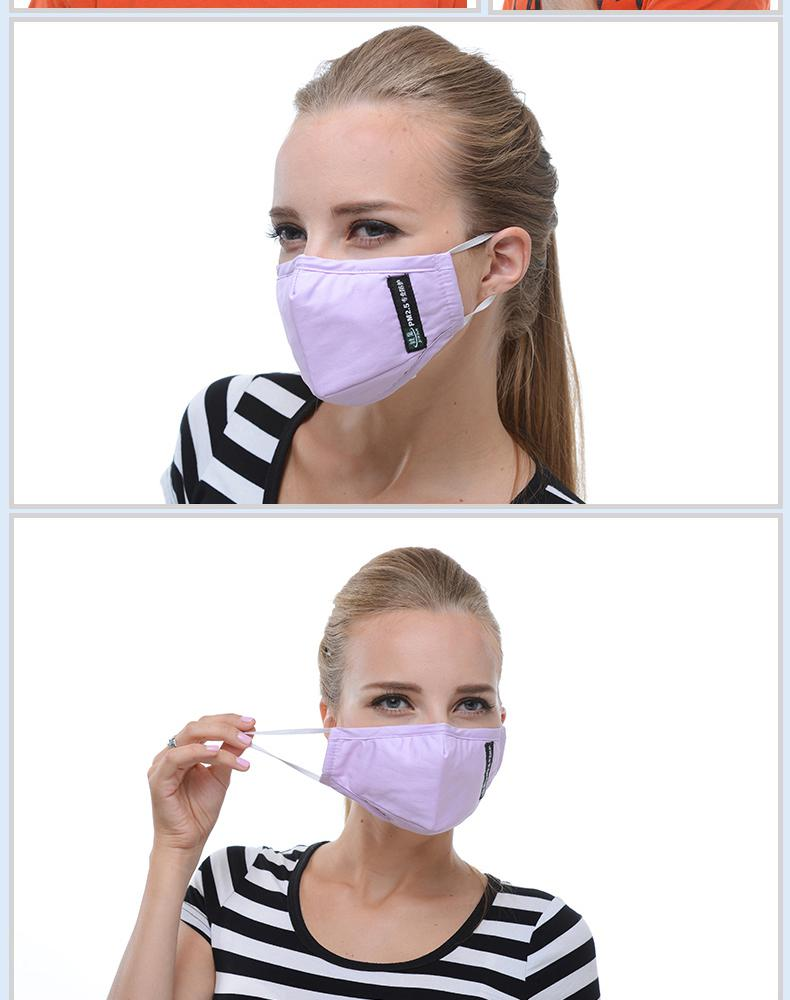OK: (269, 181, 489, 401), (320, 654, 501, 835)
